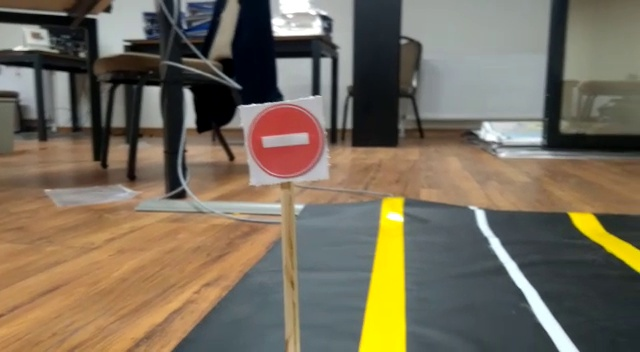girisi_olmayan_yol: (247, 105, 326, 180)
